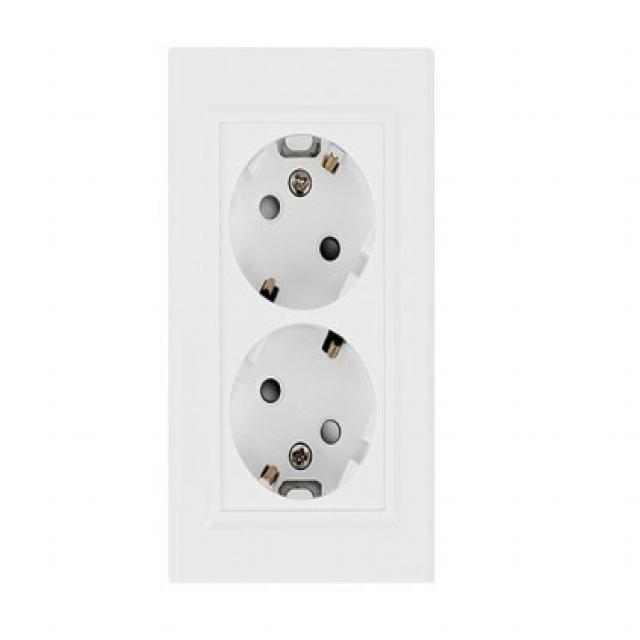typeb: (150, 24, 469, 606)
